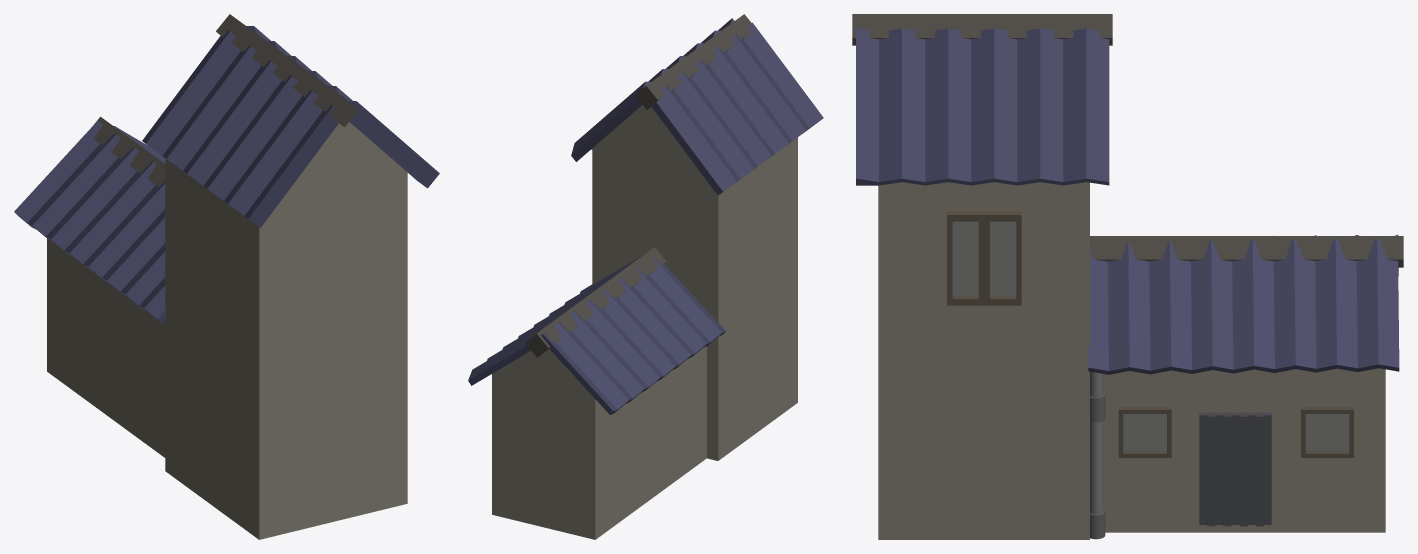
File: HOUSE 1 BLUE ROOF.fbx
3 renders of one model, left to right at view 1: azimuth 30°, elevation 25°; view 2: azimuth 150°, elevation 25°; view 3: azimuth 270°, elevation 25°, orthographic. The views are drawn at different scales.
Parts seen in each view (by area): view 1: pCube1, pCube4, pCube6, pCube2, pCube11, pCube3, pCube12; view 2: pCube1, pCube2, pCube4, pCube6, pCube12, pCube11, pCube5, pCube3; view 3: pCube1, pCube3, pCube5, pCube2, pCube7, pCube10, pCube12, pCube11, pCube8, pCube9, pCylinder1.
Part boxes in pixels (bbox=[...]): pCube1: bbox=[165, 122, 407, 539]; pCube4: bbox=[142, 30, 338, 227]; pCube6: bbox=[14, 120, 166, 323]; pCube2: bbox=[47, 238, 165, 457]; pCube11: bbox=[216, 14, 358, 127]; pCube3: bbox=[246, 26, 439, 188]; pCube12: bbox=[94, 116, 165, 186]; pCube1: bbox=[592, 105, 797, 460]; pCube2: bbox=[492, 346, 706, 539]; pCube4: bbox=[651, 22, 823, 195]; pCube6: bbox=[541, 255, 725, 414]; pCube12: bbox=[525, 247, 666, 357]; pCube11: bbox=[635, 14, 751, 109]; pCube5: bbox=[468, 256, 641, 385]; pCube3: bbox=[571, 18, 734, 161]; pCube1: bbox=[878, 182, 1089, 539]; pCube3: bbox=[856, 28, 1109, 185]; pCube5: bbox=[1088, 239, 1399, 374]; pCube2: bbox=[1103, 368, 1385, 532]; pCube7: bbox=[1199, 412, 1271, 526]; pCube10: bbox=[947, 211, 1021, 305]; pCube12: bbox=[1090, 236, 1403, 267]; pCube11: bbox=[852, 14, 1112, 45]; pCube8: bbox=[1118, 406, 1171, 457]; pCube9: bbox=[1301, 406, 1353, 457]; pCylinder1: bbox=[1090, 371, 1103, 514].
Bounding box in the file's own units: 0.0827 × 0.1786 × 0.1832.
